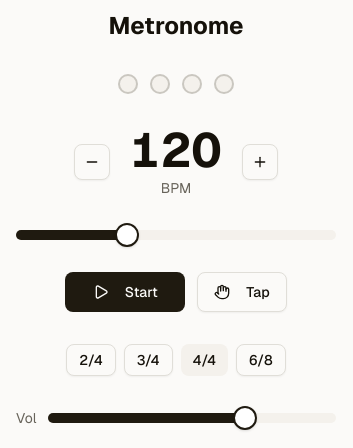
Test: Metronome › increases BPM when + button clicked
What coordinates should you click on to do the following:
click the button with test id "bpm-increase"
I would click on:
 (260, 162)
Its box is [242, 144, 278, 180].
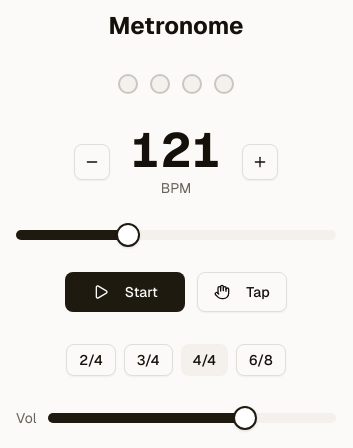
Now the button with test id "bpm-display" reads "121", box [130, 126, 222, 174]
